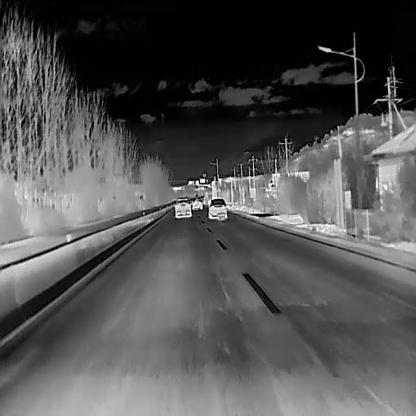car: (208, 198, 227, 220), (174, 196, 191, 218), (192, 198, 202, 209)
